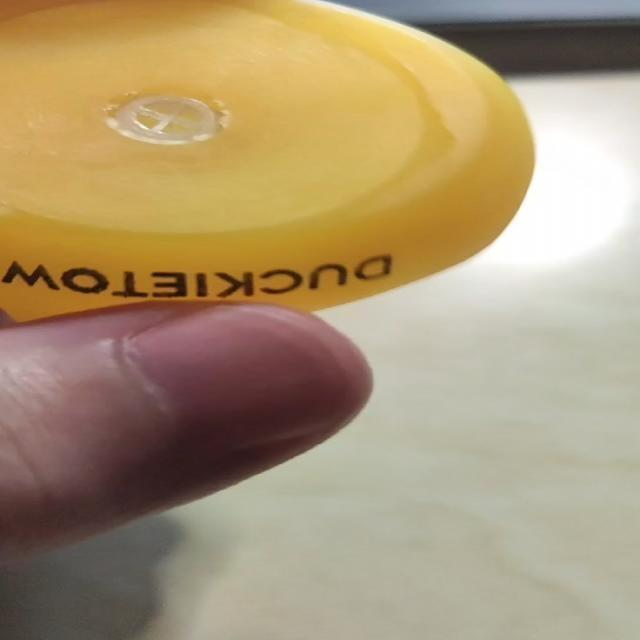rubber-duck: (0, 0, 531, 320)
